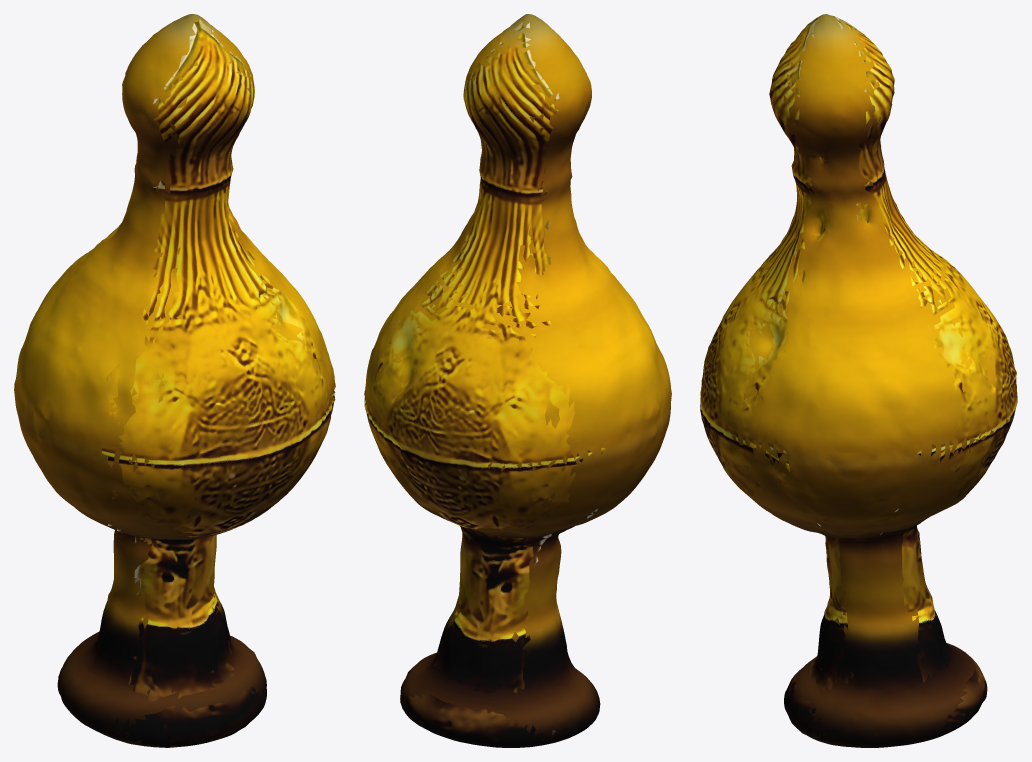
The model's file is kfl-2292.glb.
3 views of the same model, side by side, from view 1: azimuth 30°, elevation 25°; view 2: azimuth 150°, elevation 25°; view 3: azimuth 270°, elevation 25° (orthographic). The views are drawn at different scales.
Visible parts, largest first — view 1: kfl-2292; view 2: kfl-2292; view 3: kfl-2292.
Part boxes in pixels (x1,y1,x2,y2): kfl-2292: [14, 14, 335, 747]; kfl-2292: [364, 14, 671, 747]; kfl-2292: [700, 14, 1017, 747].
Bounding box in the file's own units: 0.4038 × 0.9916 × 0.4042.
4 materials, 4 textured.
